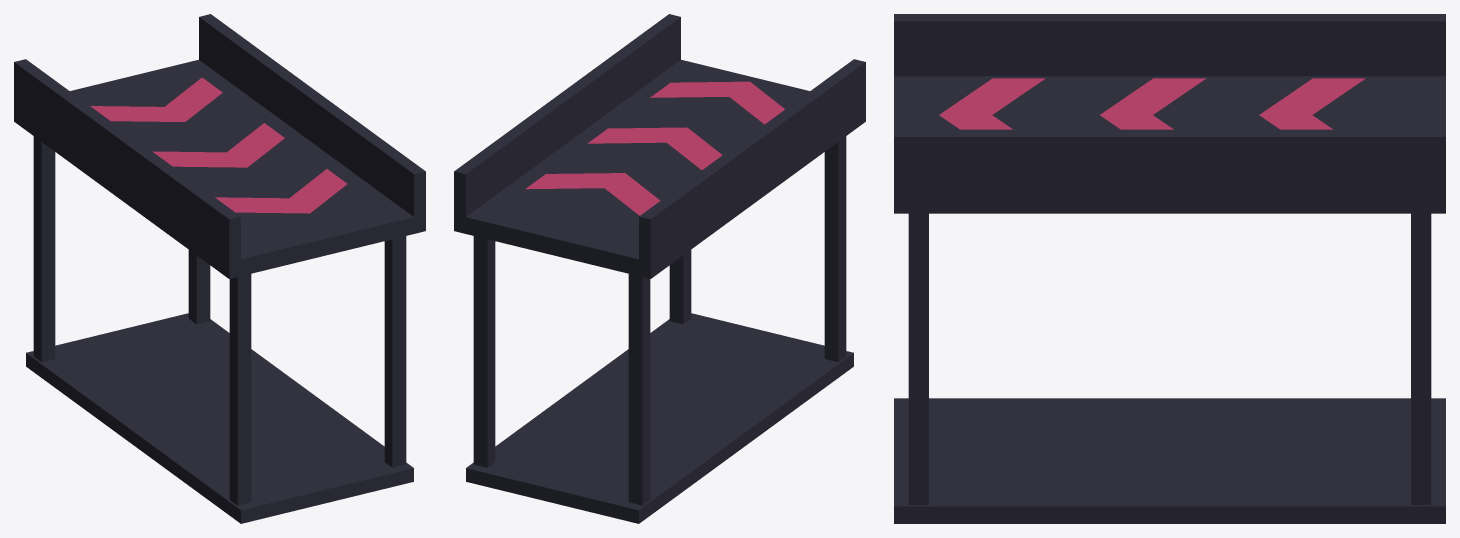
File: conv.glb
The picture shows the model from 3 angles, left to right: view 1: azimuth 30°, elevation 25°; view 2: azimuth 150°, elevation 25°; view 3: azimuth 270°, elevation 25°; orthographic projection. The views are drawn at different scales.
Visible parts, largest first — view 1: conv; view 2: conv; view 3: conv.
Boxes of the visible parts, x1=… form: conv: x1=14, y1=14, x2=425, y2=523; conv: x1=454, y1=14, x2=865, y2=523; conv: x1=894, y1=14, x2=1445, y2=523.
Size of the model in its own units: 0.528 by 0.7882 by 1.
Materials: 1 (1 with a texture image).
